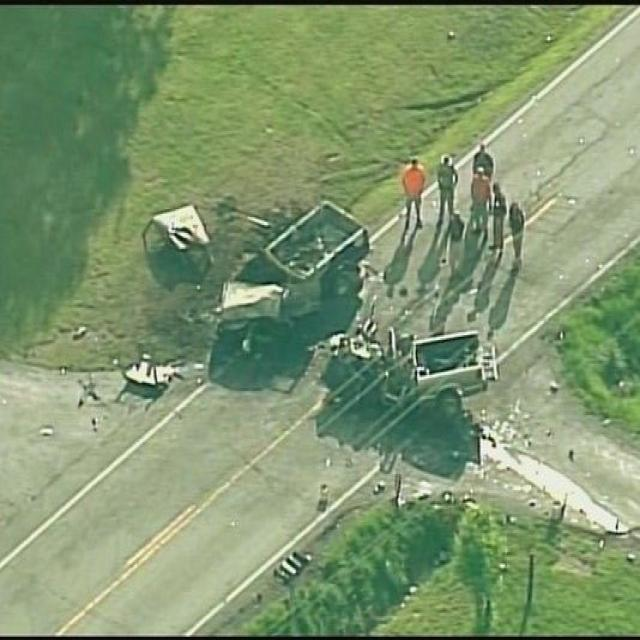traffic_incident: (124, 142, 506, 449)
